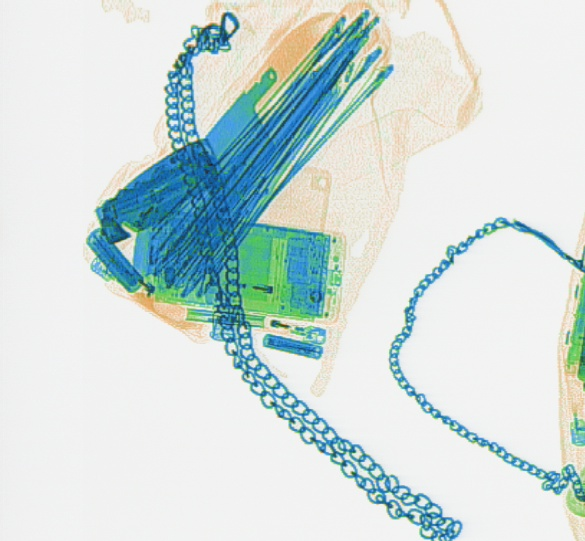knife: (152, 8, 339, 238), (96, 135, 222, 236)
lighter: (90, 255, 174, 318), (189, 264, 280, 296), (243, 310, 328, 344)
pressure: (562, 363, 583, 443)
